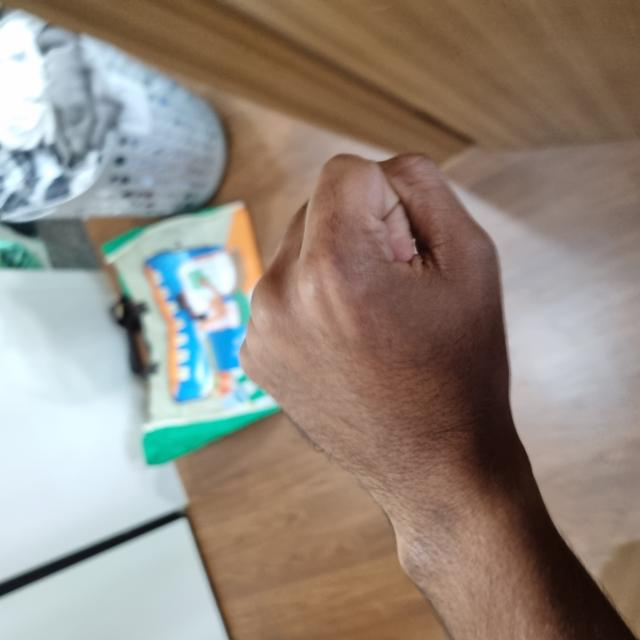Rock: (117, 244, 485, 510)
